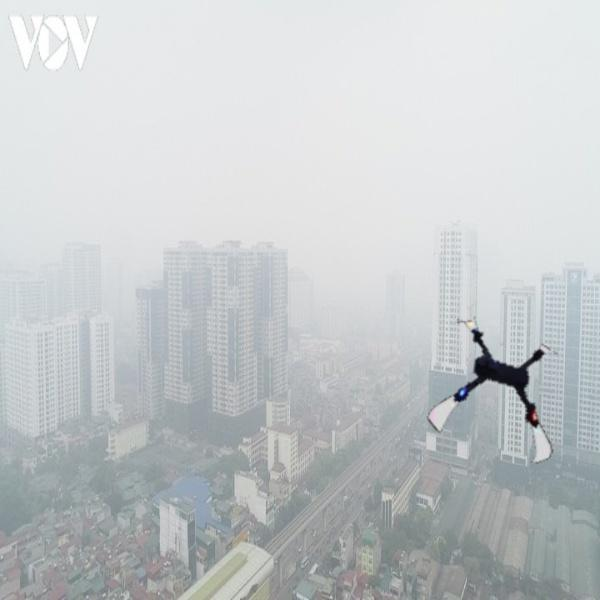drone: (427, 318, 573, 464)
